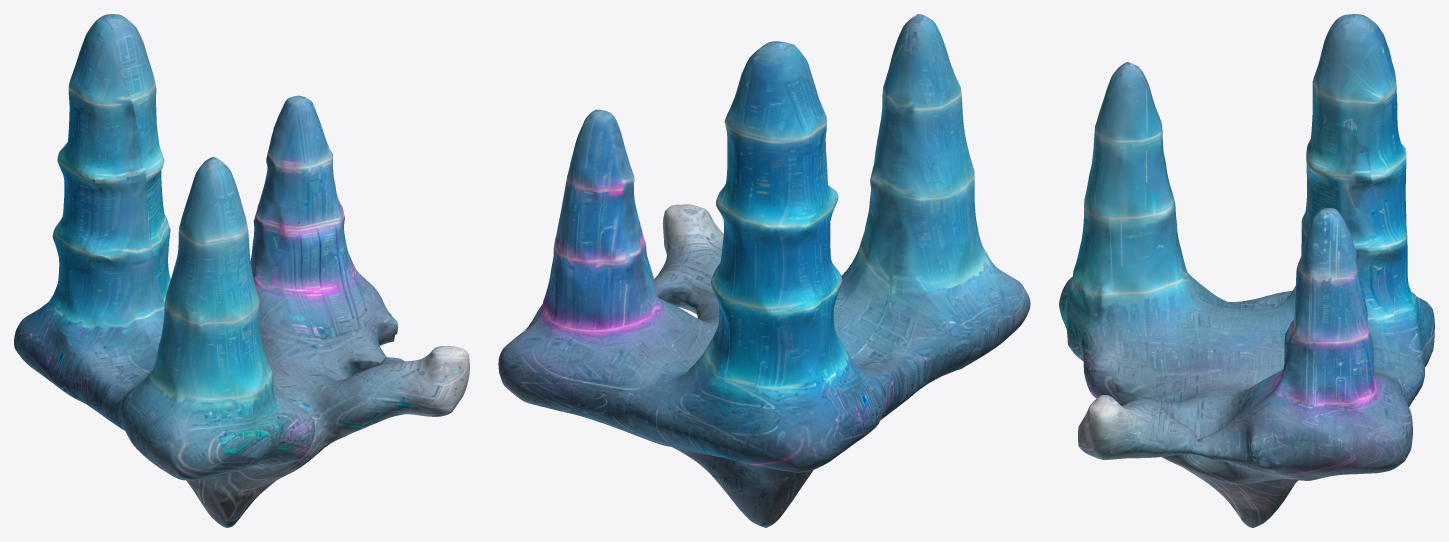
The model's file is City.glb.
3 renders of one model, left to right at view 1: azimuth 30°, elevation 25°; view 2: azimuth 150°, elevation 25°; view 3: azimuth 270°, elevation 25°, orthographic. The views are drawn at different scales.
Bounding box in the file's own units: 0.8357 × 1.2 × 0.8518.
1 material, 1 textured.
